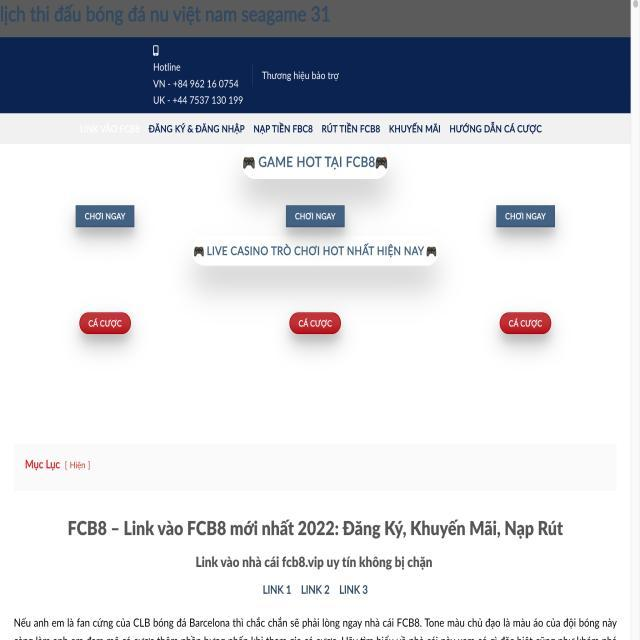button: (484, 197, 562, 231), (66, 196, 144, 228), (74, 302, 136, 338), (478, 313, 560, 340), (282, 199, 347, 233), (282, 309, 347, 341)
